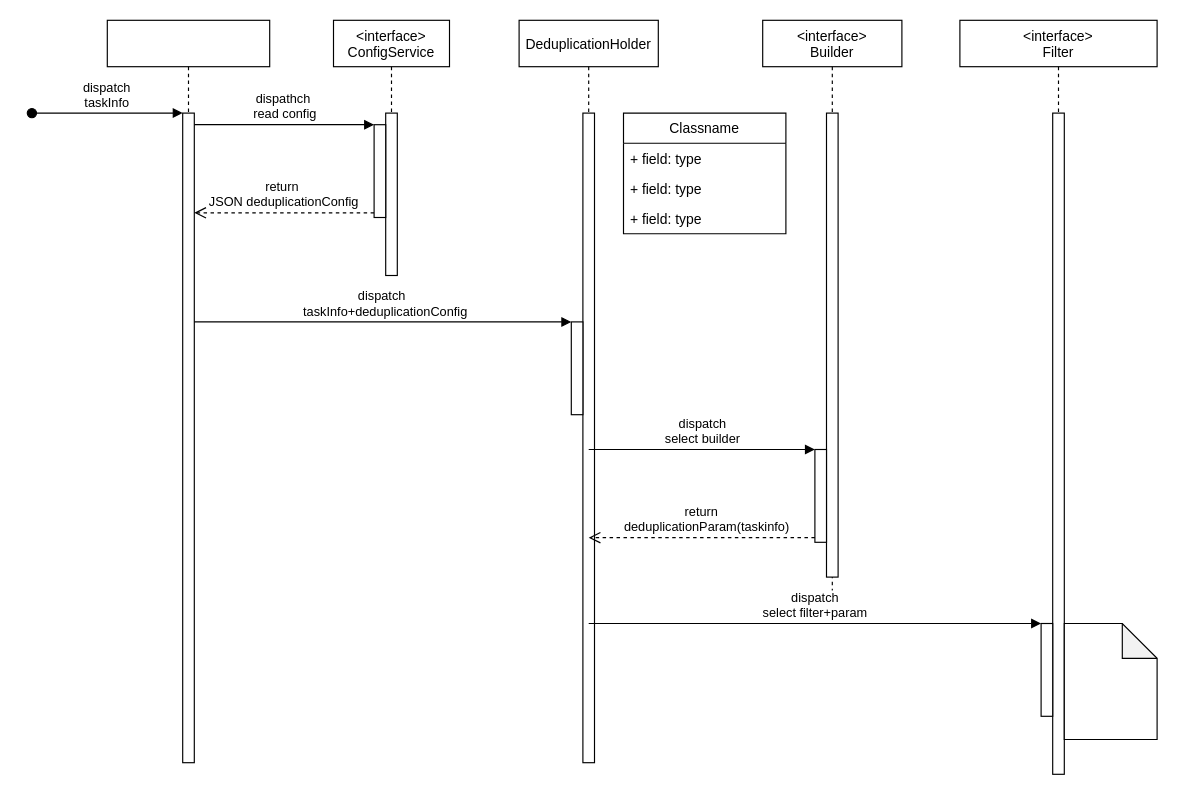
Some shapes in this 1177 by 795 pixel diagram are drawn without their labels. Each missing label, with the box of its shape:
DeduplicationRuleService: (106, 19, 270, 763)
taskinfo符合去重条件的接收者被剔除: (1063, 622, 1157, 740)
